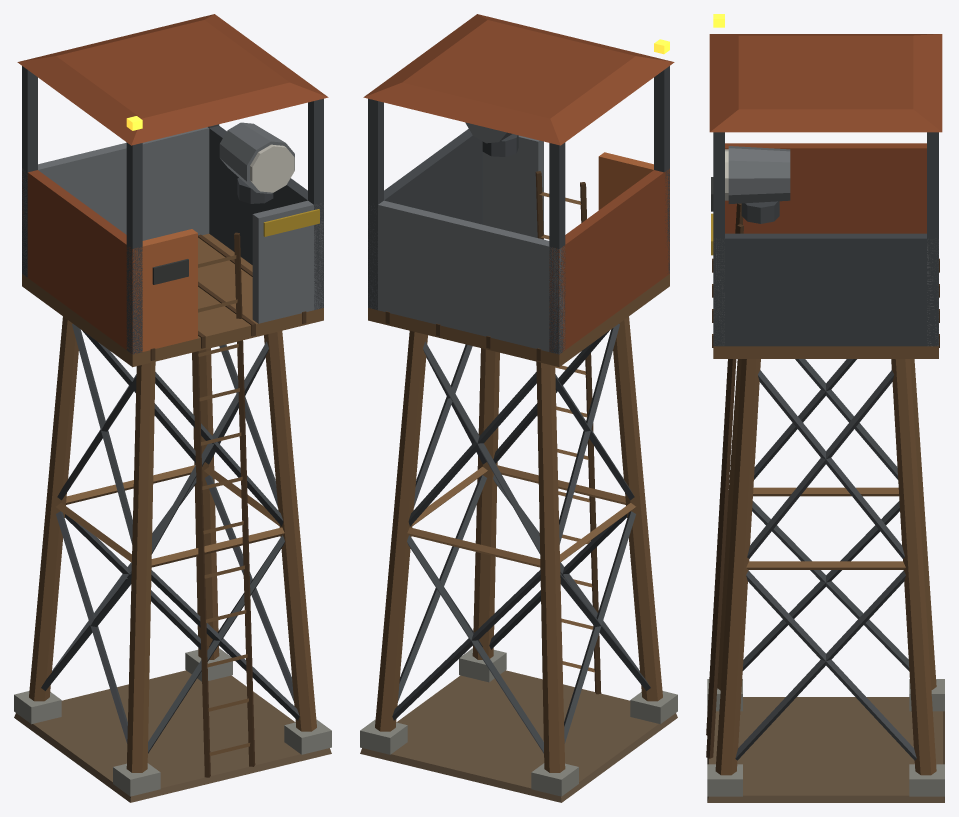
File: watchtower_l2.glb
3 views of the same model, side by side, from view 1: azimuth 30°, elevation 25°; view 2: azimuth 150°, elevation 25°; view 3: azimuth 270°, elevation 25° (orthographic). The views are drawn at different scales.
Visible parts, largest first — view 1: watchtower_l2_mesh; view 2: watchtower_l2_mesh; view 3: watchtower_l2_mesh.
Part boxes in pixels (x1,y1,x2,y2): watchtower_l2_mesh: (14,14,331,802); watchtower_l2_mesh: (360,14,677,802); watchtower_l2_mesh: (706,14,944,802).
Size of the model in its own units: 2 by 6.42 by 2.01.
